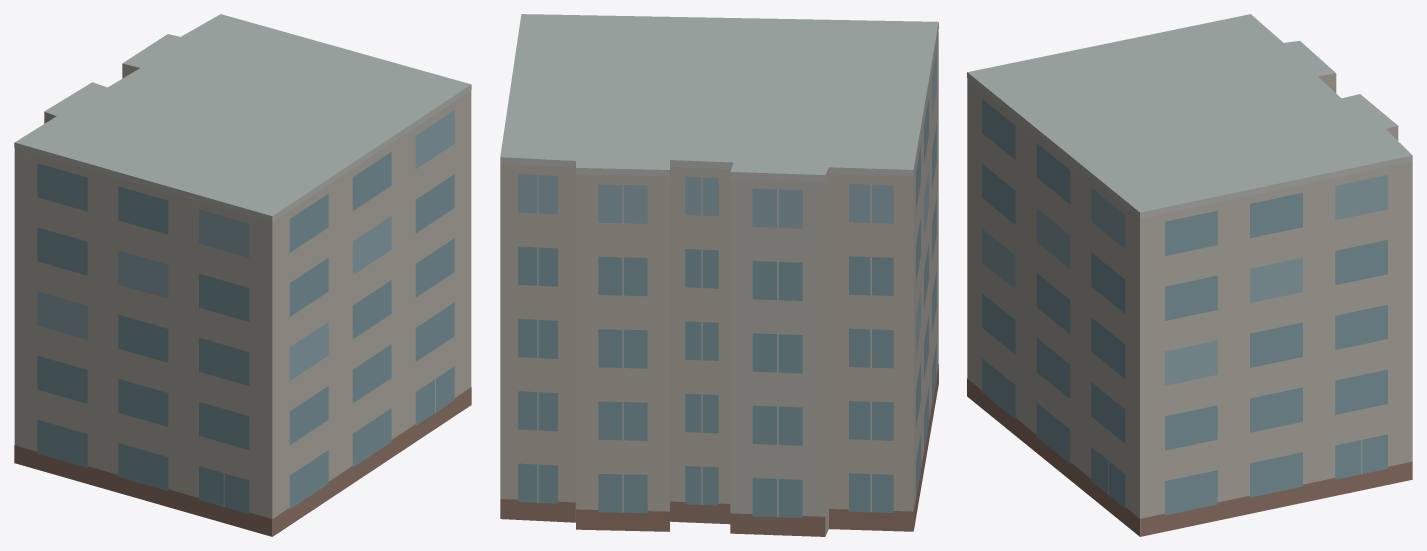
Rendered from survey-upis-32746431.glb.
The picture shows the model from 3 angles, left to right: view 1: azimuth 30°, elevation 25°; view 2: azimuth 150°, elevation 25°; view 3: azimuth 270°, elevation 25°; orthographic projection. The views are drawn at different scales.
Visible parts, largest first — view 1: survey-upis-32746431.tmp; view 2: survey-upis-32746431.tmp; view 3: survey-upis-32746431.tmp.
Part boxes in pixels (box(x1,y1,x2,y2)): survey-upis-32746431.tmp: box(14, 14, 471, 536); survey-upis-32746431.tmp: box(500, 14, 938, 536); survey-upis-32746431.tmp: box(967, 14, 1412, 536).
Size of the model in its own units: 17.45 by 13.28 by 16.54.
